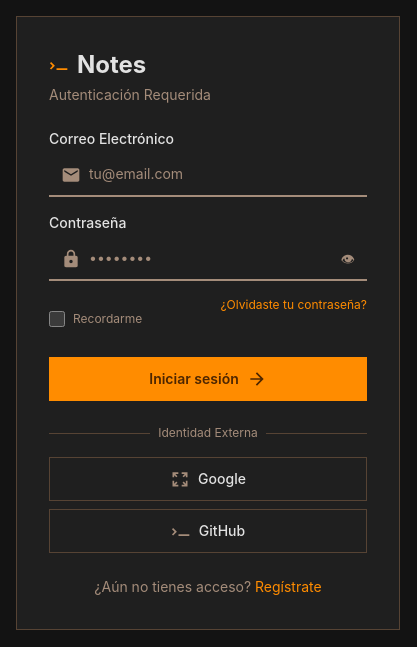
LoginPage › disables submit button while loading
This screenshot has width=417, height=647.
Type "user@test.com" into the field labelled "Correo Electrónico" at (208, 175), box [49,153,367,197]
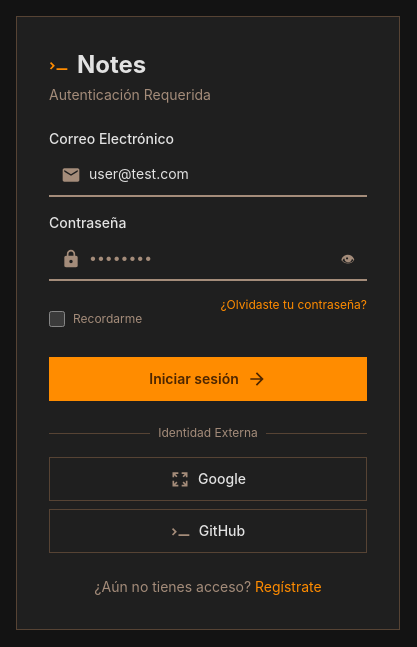
Type "Password1!" into the password field labelled "Contraseña" at (208, 259), box [49,237,367,281]
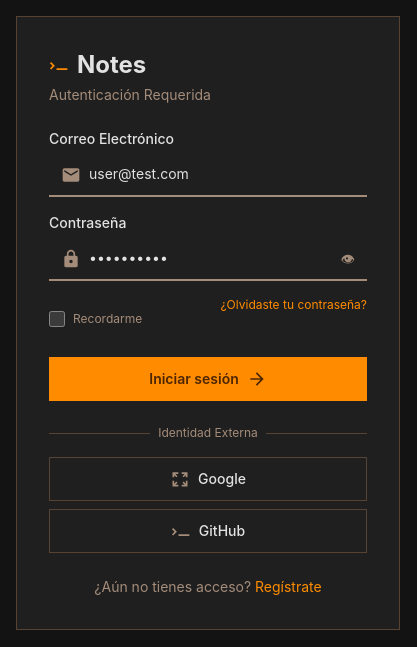
Click the button "Iniciar sesión" at (208, 379), box [49,357,367,401]
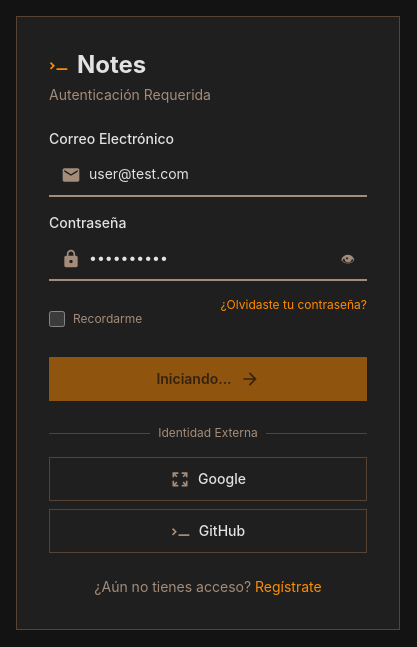
expect the button "Iniciando..." is disabled: met, box [49,357,367,401]
